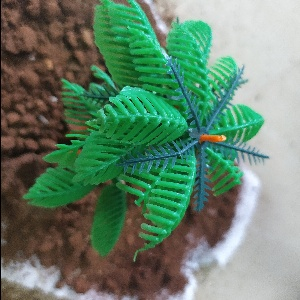plant: (40, 6, 257, 276)
